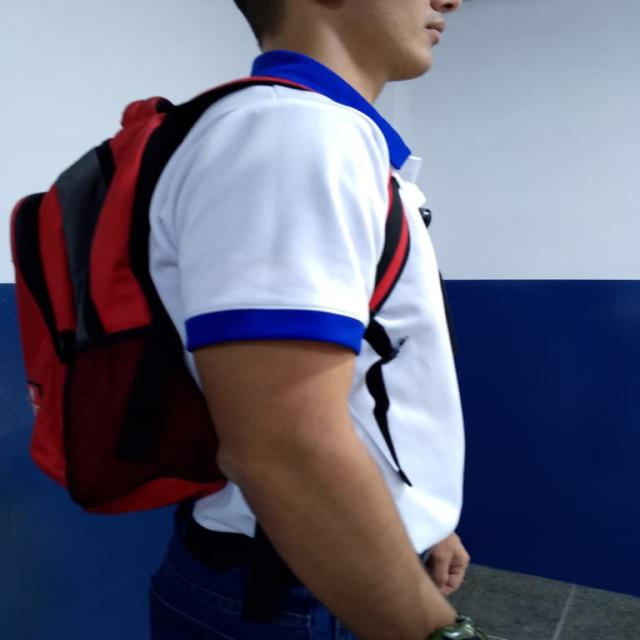uniforme_superior: (150, 51, 465, 555)
